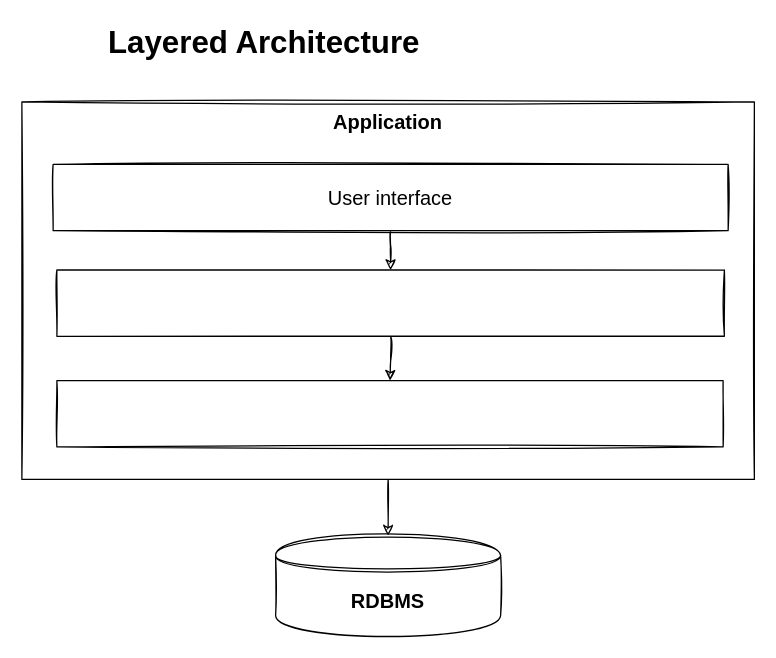
Image size: 776x658. Some labels were removed from this diagram. The shapes that lost their labels are listed below. From the top down, each one's centre as x and y in pixels, then its label:
At [390,302]: "Business Logic".
At [389,413]: "Data Access".
